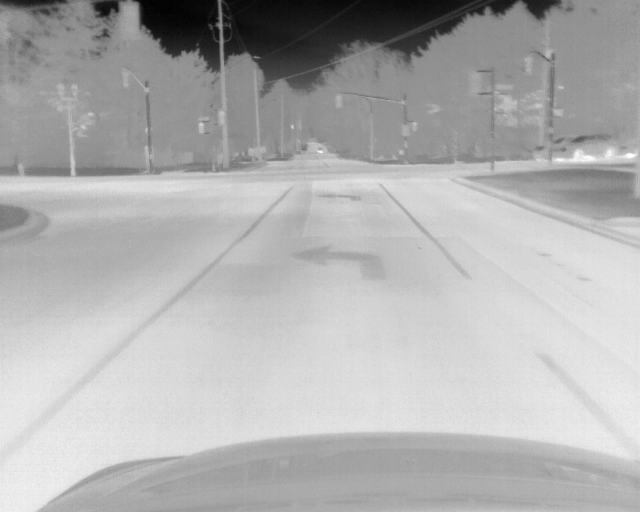car: (532, 132, 621, 161)
